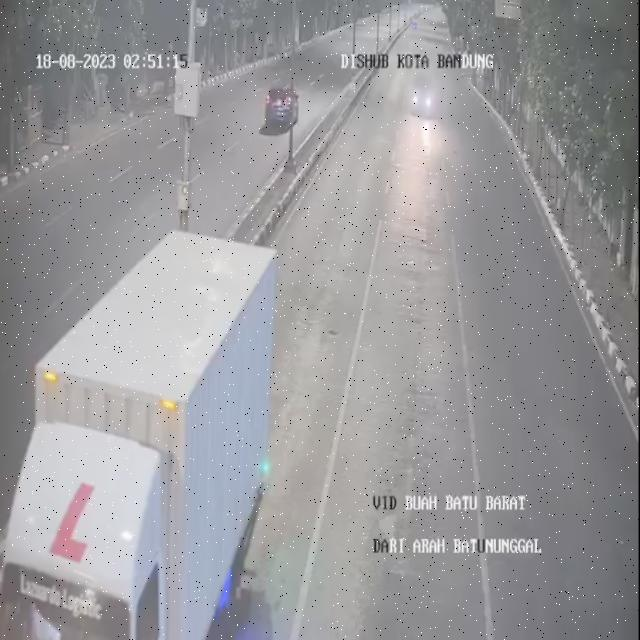cars: (406, 58, 434, 125)
truck: (0, 226, 282, 640)
